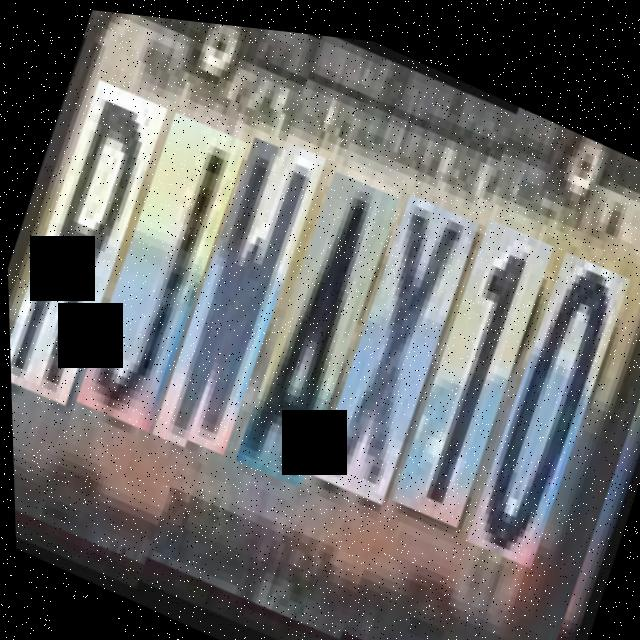1: (382, 198, 559, 532)
A: (228, 144, 409, 487)
J: (73, 82, 259, 425)
O: (456, 229, 635, 570)
R: (1, 50, 179, 401)
W: (149, 104, 334, 455)
X: (306, 167, 486, 503)
